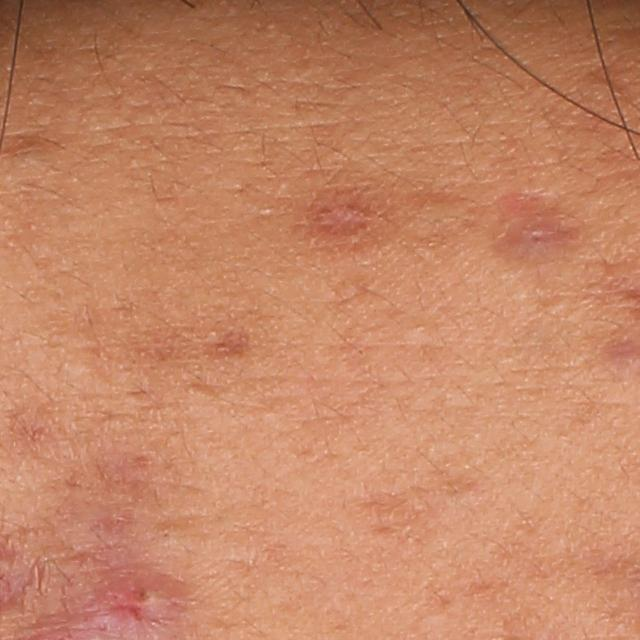atrophic_scar: (351, 474, 474, 552), (411, 569, 501, 623), (201, 327, 254, 362)
